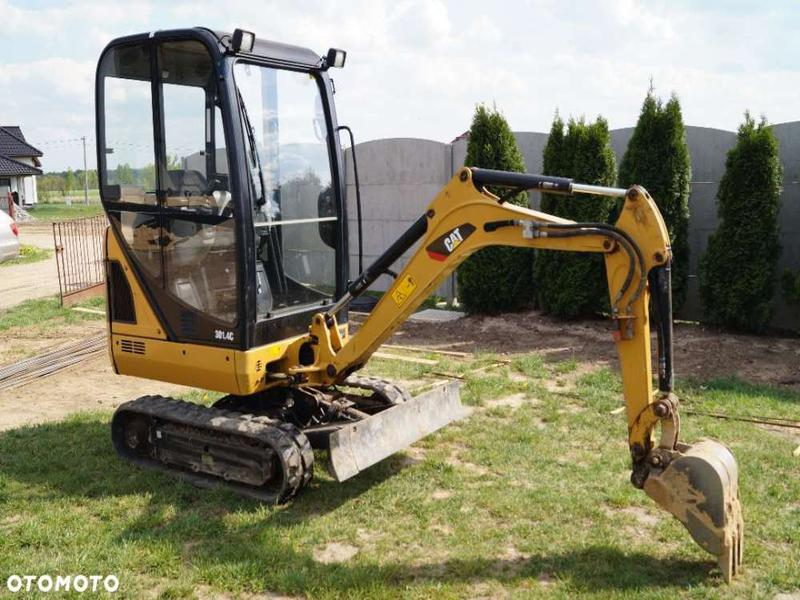shovel: (90, 20, 753, 593)
